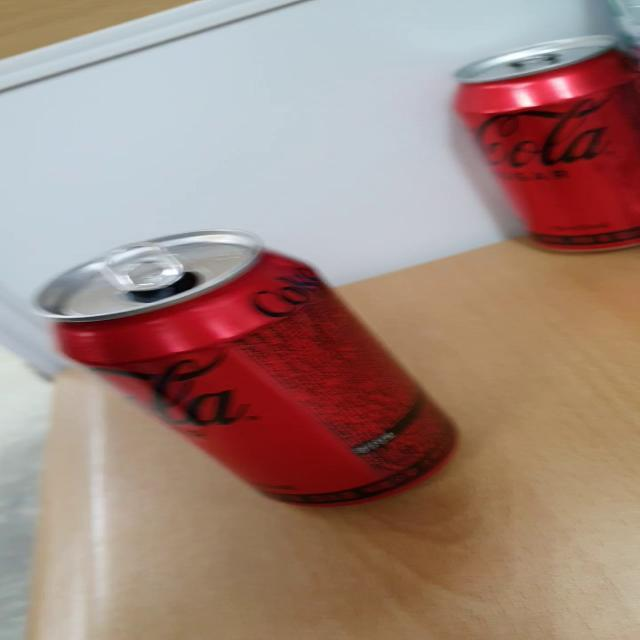coca-cola: (11, 225, 482, 530), (420, 24, 640, 276)
